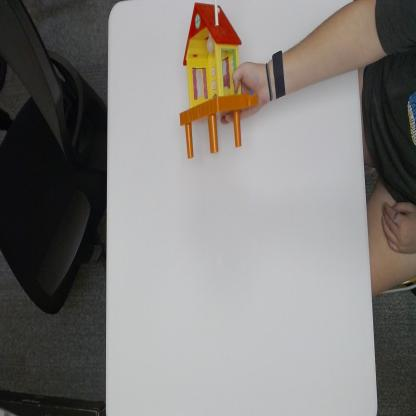Arm: (288, 4, 386, 78)
Hand: (222, 62, 277, 121)
House: (182, 0, 252, 156)
